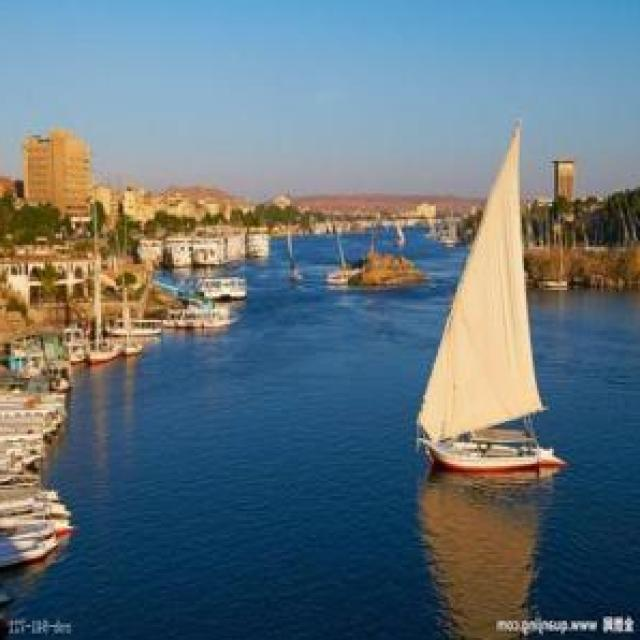sailboat: (410, 120, 570, 478)
